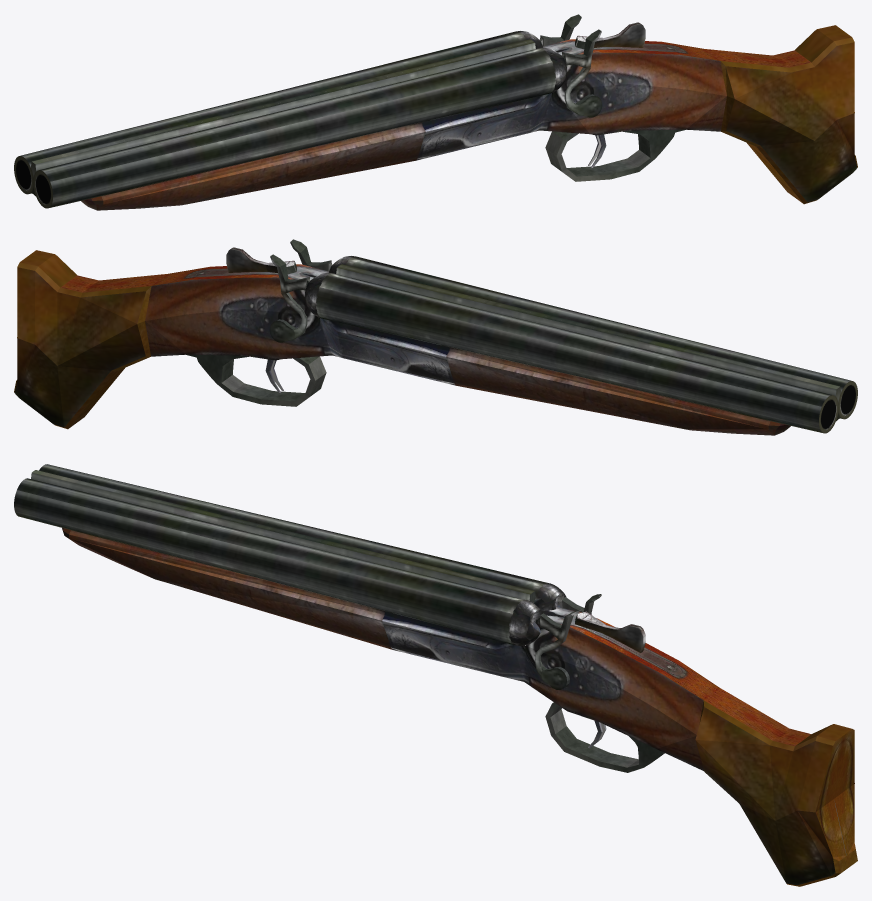
The model's file is w_obrez_bm.obj.
The picture shows the model from 3 angles, top to bottom: view 1: azimuth 30°, elevation 25°; view 2: azimuth 150°, elevation 25°; view 3: azimuth 330°, elevation 25°; orthographic projection.
Parts seen in each view (by area): view 1: w_toz_bm_Cube; view 2: w_toz_bm_Cube; view 3: w_toz_bm_Cube.
Part boxes in pixels (x1=…): w_toz_bm_Cube: x1=14, y1=14, x2=857, y2=210; w_toz_bm_Cube: x1=14, y1=239, x2=857, y2=435; w_toz_bm_Cube: x1=14, y1=464, x2=857, y2=886.
Bounding box in the file's own units: 6.86 × 1.82 × 0.6791.
